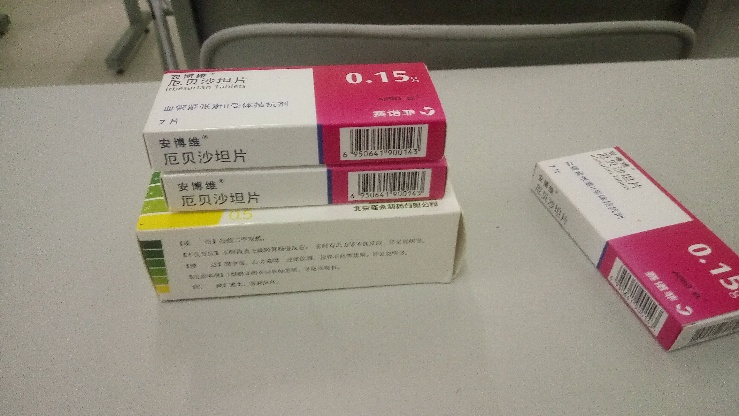pillbox: (534, 146, 739, 352), (142, 65, 447, 174), (135, 214, 470, 305), (160, 166, 447, 213)
